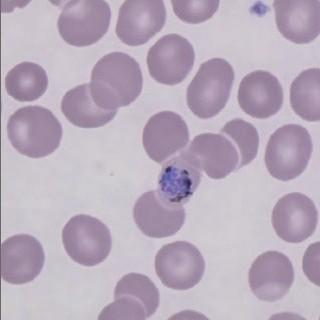Infected: (156, 157, 200, 206)
Uninfected: (90, 52, 143, 109), (186, 58, 234, 117), (7, 106, 61, 158), (61, 214, 111, 266), (265, 124, 311, 180), (185, 132, 239, 179), (61, 84, 118, 128), (142, 111, 190, 163), (133, 190, 185, 238), (146, 34, 194, 84), (58, 0, 110, 46), (154, 241, 203, 289), (248, 250, 292, 301), (271, 193, 316, 242), (115, 0, 164, 45), (0, 234, 44, 284), (112, 271, 159, 315), (239, 72, 282, 119), (220, 118, 258, 169), (274, 0, 319, 42), (5, 61, 47, 101)
